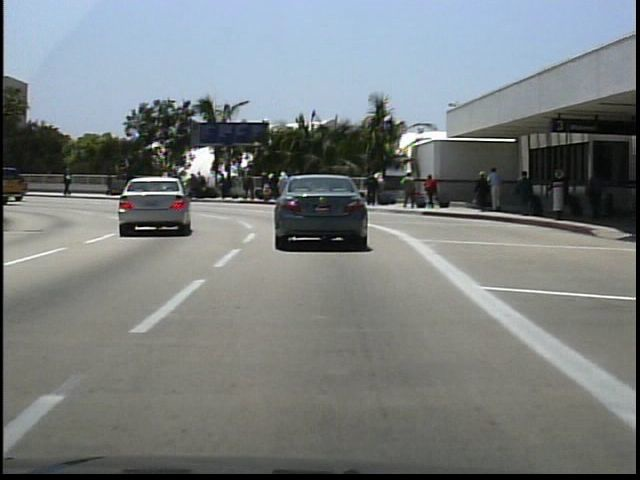person: (585, 162, 611, 221), (513, 165, 537, 218), (485, 164, 507, 217), (556, 164, 577, 219), (475, 167, 495, 216), (401, 170, 420, 211), (425, 169, 443, 210), (366, 170, 383, 208), (103, 170, 121, 198), (61, 166, 77, 197), (125, 169, 141, 199)
